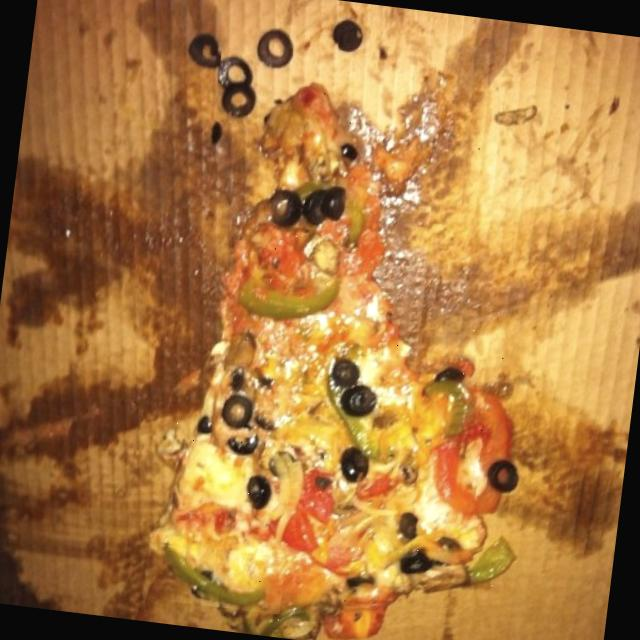Bell Pepper: (142, 542, 286, 614), (238, 268, 367, 334)
Olive: (258, 175, 363, 235), (213, 51, 269, 126), (329, 434, 386, 491), (324, 361, 376, 420), (222, 391, 260, 442), (254, 24, 296, 70), (187, 28, 230, 71), (396, 548, 444, 584), (338, 562, 380, 602), (328, 20, 368, 56)
pizza: (151, 32, 529, 640)
tomato: (424, 366, 533, 522), (278, 462, 344, 556)
